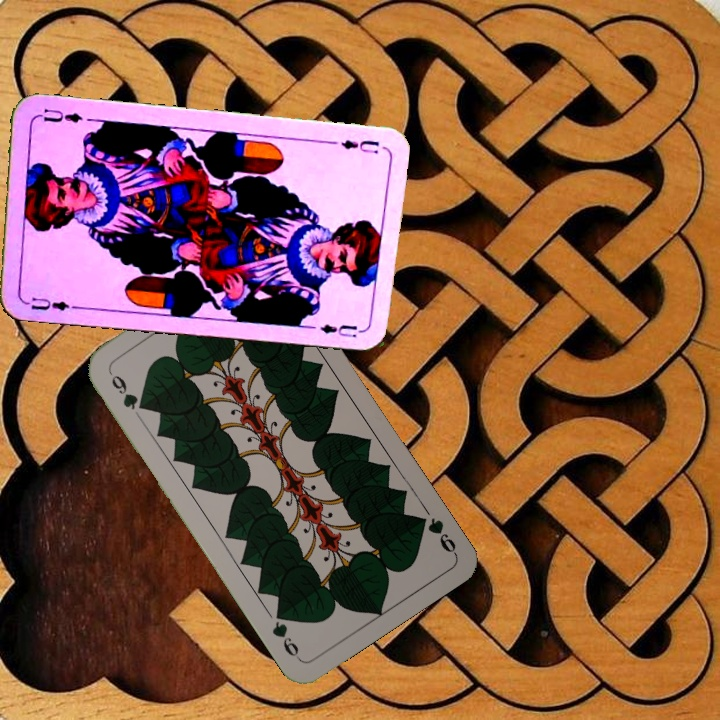EU: (18, 293, 77, 314), (337, 136, 382, 157)
G9: (411, 511, 459, 557), (104, 367, 148, 413)
